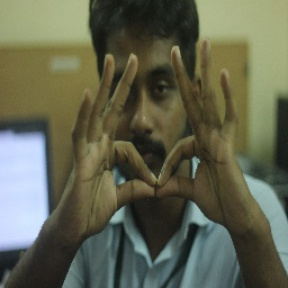B: (102, 127, 218, 219)
